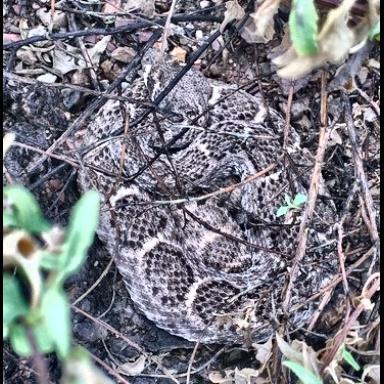snake: (17, 55, 371, 344)
